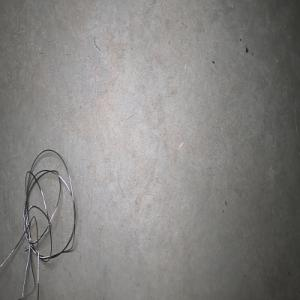Wire: (0, 149, 75, 300)
